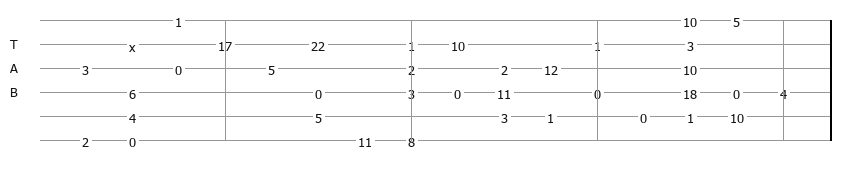0: (129, 134, 140, 147), (175, 62, 186, 75), (315, 86, 326, 99), (454, 86, 465, 99), (594, 86, 605, 99), (640, 110, 651, 123), (733, 86, 744, 99)
1: (175, 14, 186, 27), (408, 38, 419, 51), (547, 110, 558, 123), (594, 38, 605, 51), (687, 110, 698, 123)
10: (451, 38, 469, 51), (683, 14, 701, 27), (683, 62, 701, 75), (730, 110, 748, 123)
11: (358, 134, 376, 147), (497, 86, 515, 99)
12: (544, 62, 562, 75)
17: (218, 38, 236, 51)
18: (683, 86, 701, 99)
2: (82, 134, 93, 147), (408, 62, 419, 75), (501, 62, 512, 75)
22: (311, 38, 329, 51)
3: (82, 62, 93, 75), (408, 86, 419, 99), (501, 110, 512, 123), (687, 38, 698, 51)
4: (129, 110, 140, 123), (780, 86, 791, 99)
5: (268, 62, 279, 75), (315, 110, 326, 123), (733, 14, 744, 27)
6: (129, 86, 140, 99)
8: (408, 134, 419, 147)
x: (129, 39, 140, 50)
